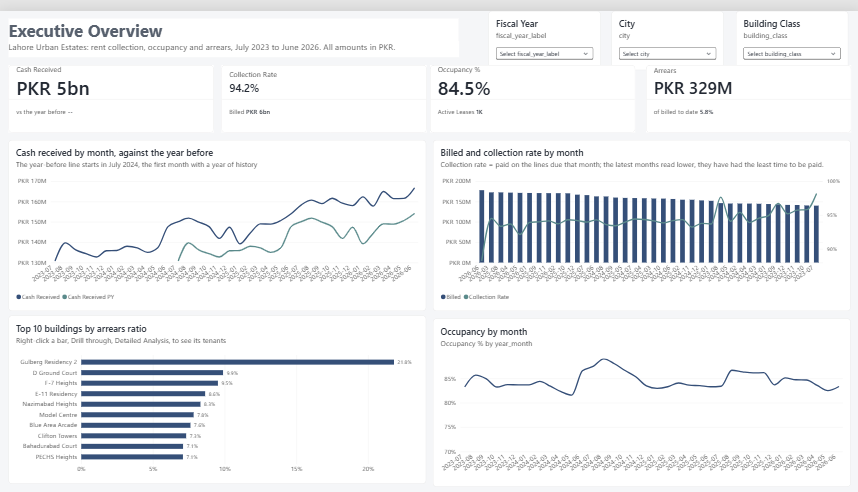

The dashboard page shown, as its layout file describes it:
{"tool":"powerbi","page":{"name":"Executive Overview","canvas":[1920,1080],"ordinal":0},"visuals":[{"type":"textbox","box":[24.2,68,1001.2,36],"z":0},{"type":"textbox","box":[24,16,1000,56],"z":1000},{"type":"listSlicer","title":"Fiscal Year","fields":{"Values":["vw_dim_date.fiscal_year_label"]},"box":[1090,0,249.6,128.2],"z":2000},{"type":"listSlicer","title":"City","fields":{"Values":["vw_dim_building.city"]},"box":[1362.4,0,249.6,131.5],"z":3000},{"type":"listSlicer","title":"Building Class","fields":{"Values":["vw_dim_building.building_class"]},"box":[1639,0,249.6,131.5],"z":4000},{"type":"cardVisual","fields":{"Data":["_Measures.Cash Received"]},"box":[24,120,456,150],"z":5000},{"type":"cardVisual","fields":{"Data":["_Measures.Collection Rate"]},"box":[496,120,456,150],"z":6000},{"type":"cardVisual","fields":{"Data":["_Measures.Occupancy %"]},"box":[960,120,456,150],"z":7000},{"type":"cardVisual","fields":{"Data":["_Measures.Arrears"]},"box":[1440,120,456,150],"z":8000},{"type":"lineChart","title":"Cash received by month, against the year before","fields":{"Category":["vw_dim_date.year_month"],"Y":["_Measures.Cash Received","_Measures.Cash Received PY"]},"box":[24,286,928,380],"z":9000},{"type":"lineClusteredColumnComboChart","title":"Billed and collection rate by month","fields":{"Category":["vw_dim_date.year_month"],"Y":["_Measures.Billed"],"Y2":["_Measures.Collection Rate"]},"box":[968,286,928,380],"z":10000},{"type":"clusteredBarChart","title":"Top 10 buildings by arrears ratio","fields":{"Category":["vw_dim_building.building_name"],"Y":["_Measures.Arrears Ratio"]},"box":[24,676,928,374],"z":11000},{"type":"lineChart","title":"Occupancy by month","fields":{"Category":["vw_dim_date.year_month"],"Y":["_Measures.Occupancy %"]},"box":[968,682,928,374],"z":12000}]}

Visuals, with their boxes in screenshot pixels (x1, y1, x2, y2), scaled from the page's 1920x1080 canvas onto the 858x492 screenshot:
textbox: (x1=11, y1=31, x2=458, y2=47)
textbox: (x1=11, y1=7, x2=458, y2=33)
"Fiscal Year" listSlicer: (x1=487, y1=0, x2=599, y2=58)
"City" listSlicer: (x1=609, y1=0, x2=720, y2=60)
"Building Class" listSlicer: (x1=732, y1=0, x2=844, y2=60)
cardVisual - _Measures.Cash Received: (x1=11, y1=55, x2=214, y2=123)
cardVisual - _Measures.Collection Rate: (x1=222, y1=55, x2=425, y2=123)
cardVisual - _Measures.Occupancy %: (x1=429, y1=55, x2=633, y2=123)
cardVisual - _Measures.Arrears: (x1=644, y1=55, x2=847, y2=123)
"Cash received by month, against the year before" lineChart: (x1=11, y1=130, x2=425, y2=303)
"Billed and collection rate by month" lineClusteredColumnComboChart: (x1=433, y1=130, x2=847, y2=303)
"Top 10 buildings by arrears ratio" clusteredBarChart: (x1=11, y1=308, x2=425, y2=478)
"Occupancy by month" lineChart: (x1=433, y1=311, x2=847, y2=481)
